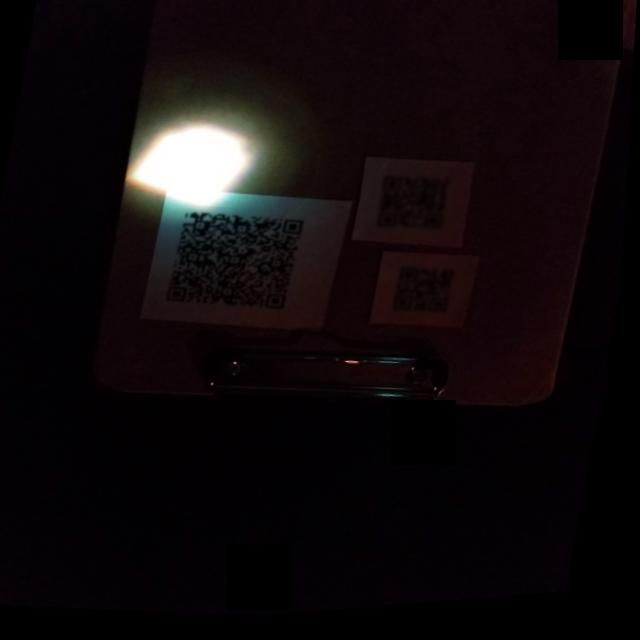QR_CODE: (155, 198, 323, 336), (365, 168, 469, 255), (380, 263, 472, 338)
